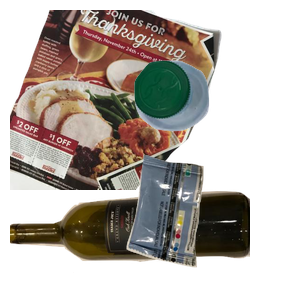glass: (10, 189, 250, 300)
paper: (10, 10, 224, 190)
plastic: (132, 58, 300, 182)
trash: (124, 152, 300, 300)
